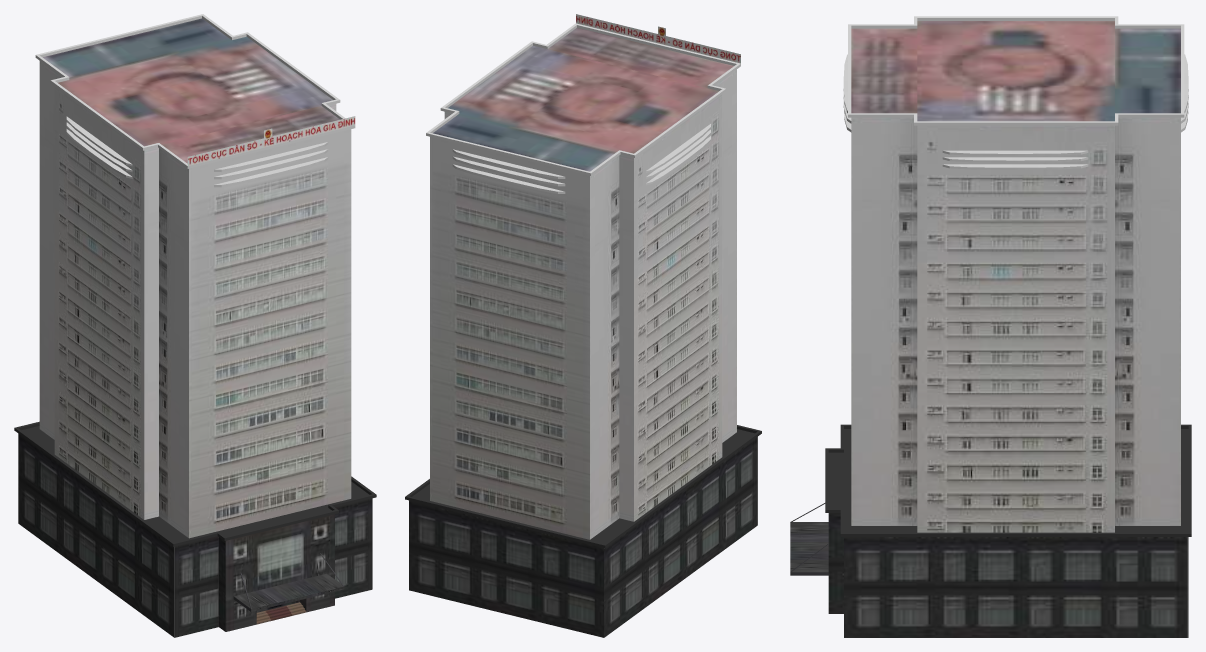
3 views of the same model, side by side, from view 1: azimuth 30°, elevation 25°; view 2: azimuth 150°, elevation 25°; view 3: azimuth 270°, elevation 25° (orthographic). The views are drawn at different scales.
Parts seen in each view (by area): view 1: HN562___Tong_cuc_DS___KHHGD; view 2: HN562___Tong_cuc_DS___KHHGD; view 3: HN562___Tong_cuc_DS___KHHGD.
Boxes of the visible parts, x1=… form: HN562___Tong_cuc_DS___KHHGD: x1=14, y1=14, x2=376, y2=637; HN562___Tong_cuc_DS___KHHGD: x1=405, y1=14, x2=761, y2=637; HN562___Tong_cuc_DS___KHHGD: x1=790, y1=16, x2=1191, y2=637.
Size of the model in its own units: 27.64 by 62.58 by 42.65.
Materials: 1 (1 with a texture image).
